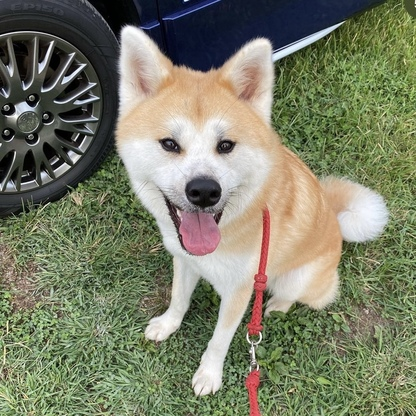akita: (90, 15, 397, 403)
